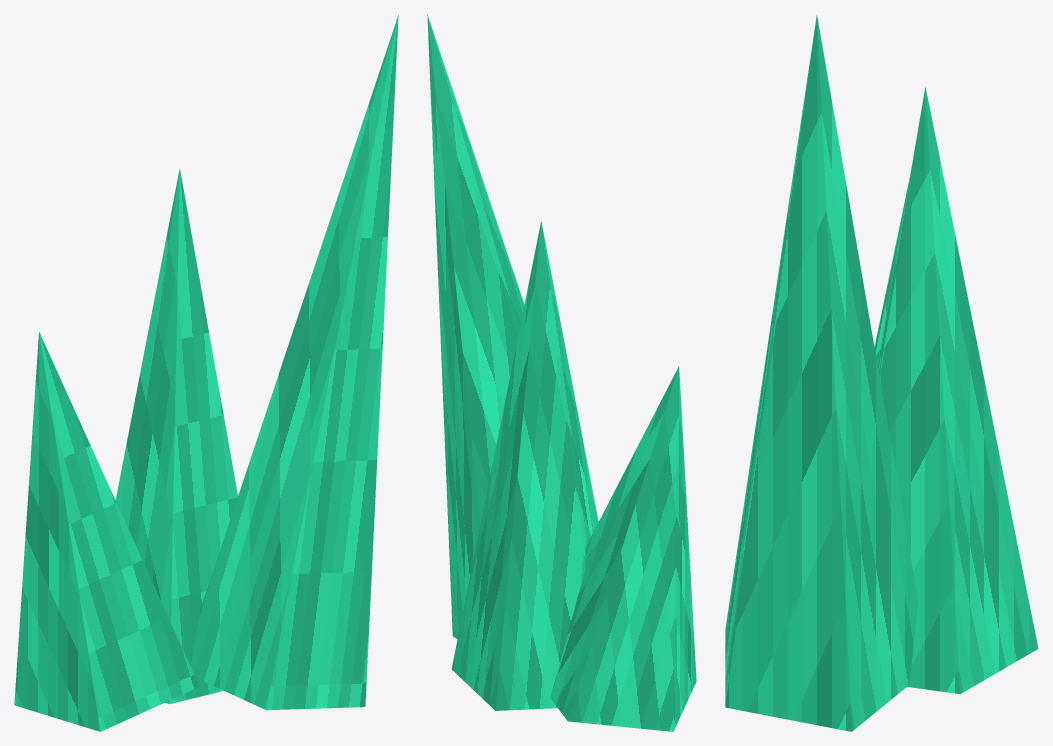
The model's file is crystal_46.glb.
The picture shows the model from 3 angles, left to right: view 1: azimuth 30°, elevation 25°; view 2: azimuth 150°, elevation 25°; view 3: azimuth 270°, elevation 25°; orthographic projection. The views are drawn at different scales.
Parts seen in each view (by area): view 1: Jade.002, Jade, Jade.001; view 2: Jade.001, Jade, Jade.002; view 3: Jade.002, Jade.001, Jade.
Boxes of the visible parts, x1,y1,x2,y2 form: Jade.002: [190, 14, 398, 710]; Jade: [14, 331, 199, 731]; Jade.001: [115, 168, 237, 704]; Jade.001: [451, 221, 598, 710]; Jade: [550, 366, 696, 731]; Jade.002: [427, 14, 524, 638]; Jade.002: [725, 15, 918, 731]; Jade.001: [877, 86, 1038, 694]; Jade: [874, 177, 909, 364].
Size of the model in its own units: 0.8317 by 1.6 by 0.6092.
Materials: 1 (1 with a texture image).
